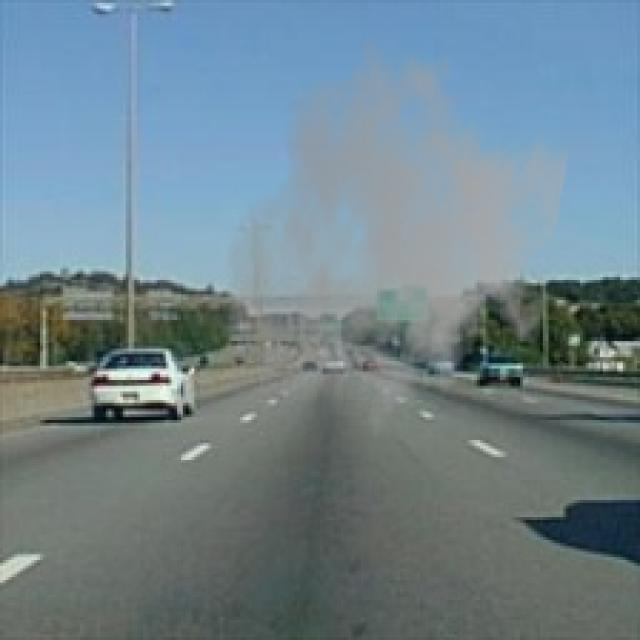Smoke: (219, 32, 572, 457)
